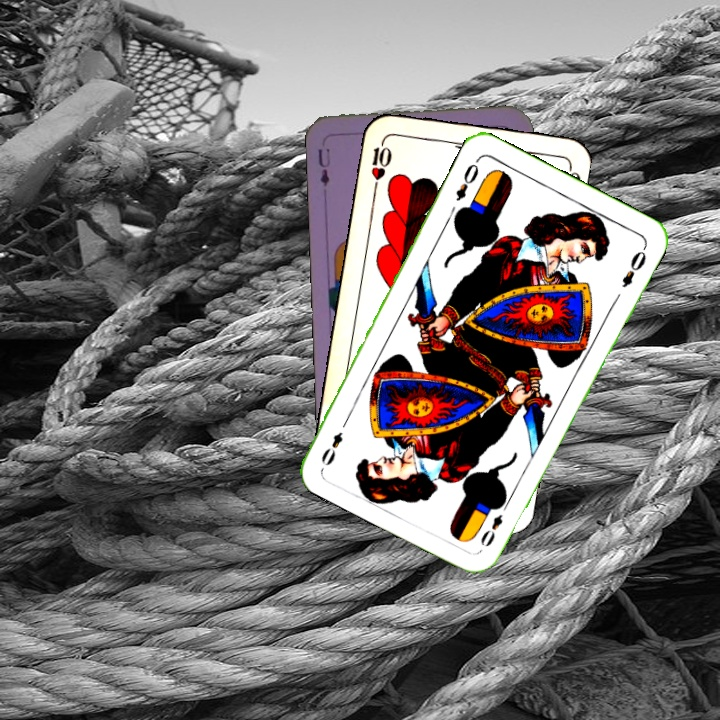EO: (476, 496, 512, 550), (451, 155, 482, 204)
EU: (314, 144, 333, 189)
H10: (367, 134, 395, 192)
